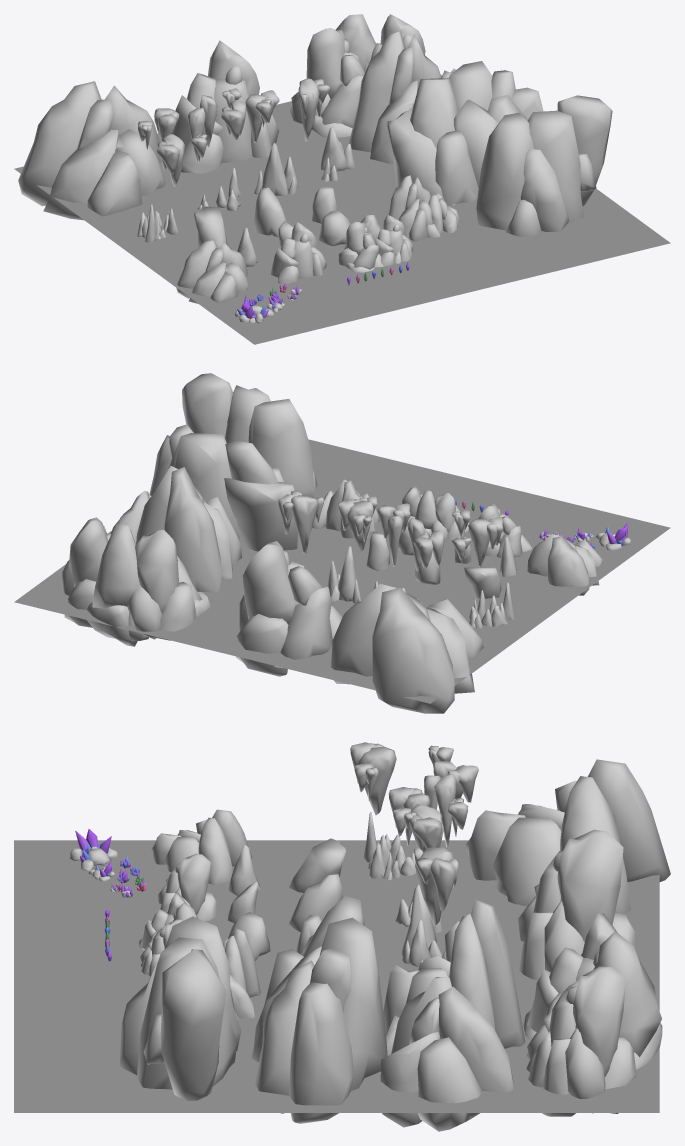
Rendered from Caves_Pieces_1A3_LOD1.fbx.
3 renders of one model, top to bottom at view 1: azimuth 30°, elevation 25°; view 2: azimuth 150°, elevation 25°; view 3: azimuth 270°, elevation 25°, orthographic. The views are drawn at different scales.
Parts seen in each view (by area): view 1: Stone_Plane_3A, Cave_Large_Wall_2A2.001, Cave_Large_Cluster_2A4.001, Cave_Large_Wall_2A1.001, Cave_Large_Cluster_2A2.001, Cave_Large_Cluster_2A3.001, Cave_Large_Cluster_2A1.001, Cave_Small_Cluster_2A4.001, Cave_Small_Cluster_2A2.001, Cave_Small_Cluster_2A1.001, Stalactites_2A3.001, Cave_Small_Cluster_2A3.001 (+12 smaller); view 2: Stone_Plane_3A, Cave_Large_Cluster_2A4.001, Cave_Large_Cluster_2A2.001, Cave_Large_Wall_2A1.001, Cave_Large_Cluster_2A3.001, Cave_Large_Wall_2A2.001, Cave_Large_Cluster_2A1.001, Cave_Small_Cluster_2A4.001, Stalactites_2A3.001, Cave_Small_Cluster_2A2.001, Stalactites_2A4.001, Stalactites_2A2.001 (+9 smaller); view 3: Stone_Plane_3A, Cave_Large_Cluster_2A1.001, Cave_Large_Wall_2A1.001, Cave_Large_Cluster_2A2.001, Cave_Large_Wall_2A2.001, Cave_Large_Cluster_2A4.001, Cave_Large_Cluster_2A3.001, Cave_Small_Cluster_2A4.001, Stalactites_2A3.001, Cave_Small_Cluster_2A3.001, Stalactites_2A4.001, Cave_Small_Cluster_2A1.001 (+11 smaller).
Boxes of the visible parts, x1=… form: Stone_Plane_3A: x1=14, y1=75, x2=670, y2=344; Cave_Large_Wall_2A2.001: x1=476, y1=95, x2=612, y2=236; Cave_Large_Cluster_2A4.001: x1=18, y1=81, x2=165, y2=220; Cave_Large_Wall_2A1.001: x1=387, y1=61, x2=543, y2=205; Cave_Large_Cluster_2A2.001: x1=290, y1=14, x2=425, y2=137; Cave_Large_Cluster_2A3.001: x1=173, y1=40, x2=279, y2=173; Cave_Large_Cluster_2A1.001: x1=348, y1=30, x2=455, y2=163; Cave_Small_Cluster_2A4.001: x1=176, y1=239, x2=249, y2=303; Cave_Small_Cluster_2A2.001: x1=338, y1=215, x2=412, y2=272; Cave_Small_Cluster_2A1.001: x1=388, y1=175, x2=460, y2=241; Stalactites_2A3.001: x1=199, y1=88, x2=279, y2=147; Cave_Small_Cluster_2A3.001: x1=270, y1=221, x2=326, y2=283; Stone_Plane_3A: x1=14, y1=439, x2=670, y2=703; Cave_Large_Cluster_2A4.001: x1=331, y1=583, x2=483, y2=713; Cave_Large_Cluster_2A2.001: x1=61, y1=517, x2=210, y2=646; Cave_Large_Wall_2A1.001: x1=149, y1=424, x2=297, y2=551; Cave_Large_Cluster_2A3.001: x1=236, y1=541, x2=342, y2=676; Cave_Large_Wall_2A2.001: x1=182, y1=373, x2=317, y2=497; Cave_Large_Cluster_2A1.001: x1=111, y1=466, x2=241, y2=592; Cave_Small_Cluster_2A4.001: x1=527, y1=534, x2=603, y2=595; Stalactites_2A3.001: x1=338, y1=496, x2=410, y2=566; Cave_Small_Cluster_2A2.001: x1=402, y1=486, x2=469, y2=539; Stalactites_2A4.001: x1=278, y1=490, x2=323, y2=553; Stalactites_2A2.001: x1=408, y1=518, x2=471, y2=571; Stone_Plane_3A: x1=14, y1=840, x2=659, y2=1112; Cave_Large_Cluster_2A1.001: x1=380, y1=899, x2=525, y2=1131; Cave_Large_Wall_2A1.001: x1=251, y1=896, x2=387, y2=1123; Cave_Large_Cluster_2A2.001: x1=523, y1=913, x2=662, y2=1116; Cave_Large_Wall_2A2.001: x1=119, y1=916, x2=241, y2=1100; Cave_Large_Cluster_2A4.001: x1=466, y1=759, x2=670, y2=913; Cave_Large_Cluster_2A3.001: x1=518, y1=829, x2=636, y2=979; Cave_Small_Cluster_2A4.001: x1=151, y1=809, x2=252, y2=884; Stalactites_2A3.001: x1=388, y1=774, x2=468, y2=852; Cave_Small_Cluster_2A3.001: x1=158, y1=853, x2=216, y2=921; Stalactites_2A4.001: x1=414, y1=847, x2=458, y2=926; Cave_Small_Cluster_2A1.001: x1=223, y1=928, x2=260, y2=1019.
Size of the model in its own units: 7926 by 2442 by 7792.
